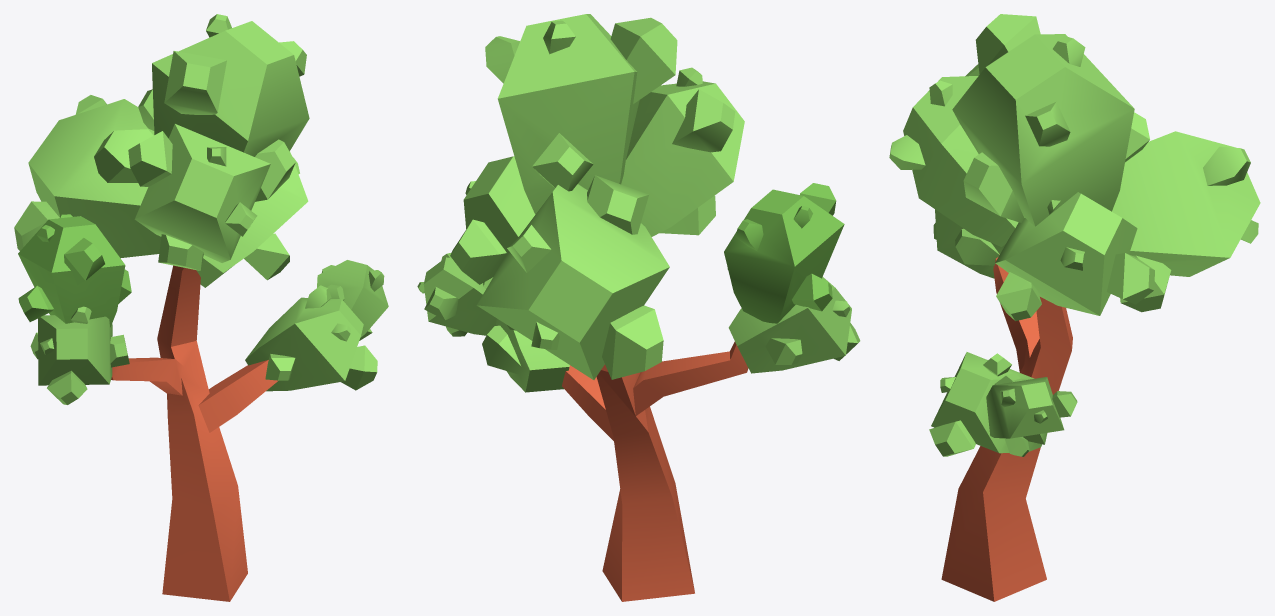
Rendered from Tree.glb.
3 views of the same model, side by side, from view 1: azimuth 30°, elevation 25°; view 2: azimuth 150°, elevation 25°; view 3: azimuth 270°, elevation 25° (orthographic). The views are drawn at different scales.
Visible parts, largest first — view 1: Branches, Trunk; view 2: Branches, Trunk; view 3: Branches, Trunk.
Part boxes in pixels (x1=…): Branches: x1=14, y1=14, x2=388, y2=404; Trunk: x1=111, y1=265, x2=278, y2=601; Branches: x1=417, y1=14, x2=860, y2=392; Trunk: x1=562, y1=341, x2=748, y2=601; Branches: x1=889, y1=14, x2=1260, y2=456; Trunk: x1=941, y1=254, x2=1072, y2=601.
Size of the model in its own units: 0.8478 by 1.17 by 0.6951.
